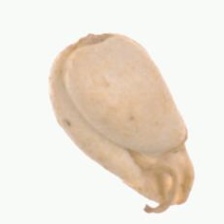L1: (127, 134, 195, 210), (59, 32, 121, 46)
L2: (49, 32, 195, 211)
